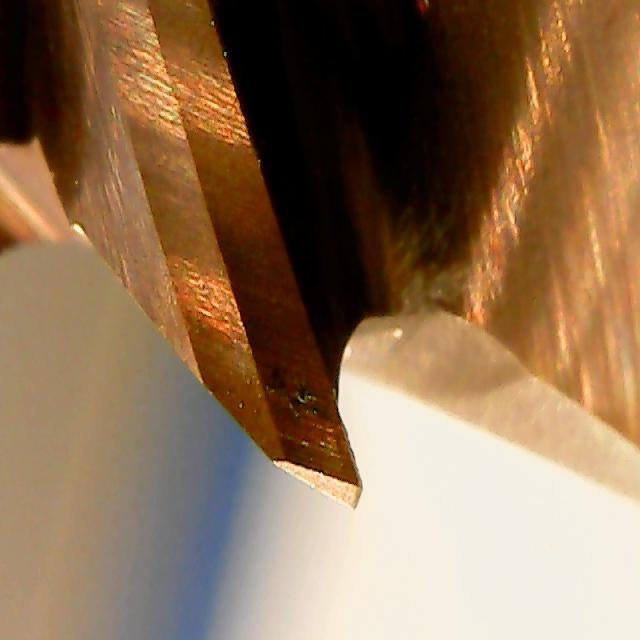Tool-wear-class-0: (214, 290, 380, 518)
